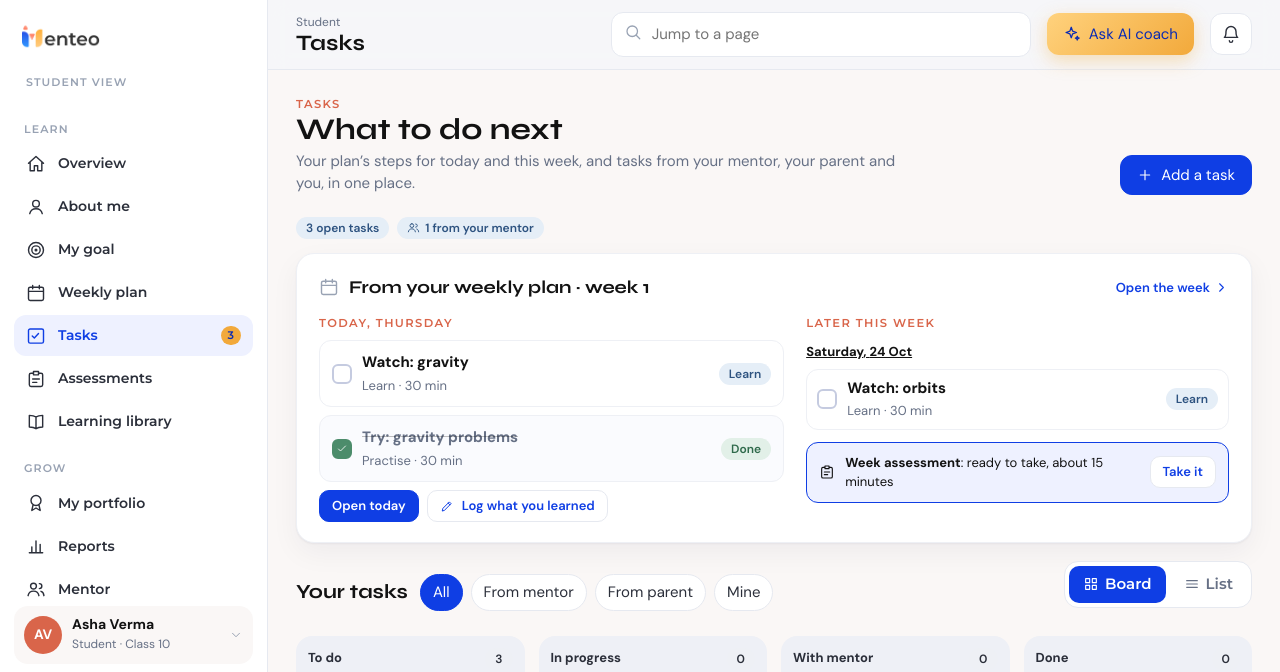
Test case: student: the Tasks page shows the plan’s steps and everyone’s tasks › filters tasks by who set them, and shows where each came from
Click the button "From parent" at (650, 592), box [595,574,706,610]
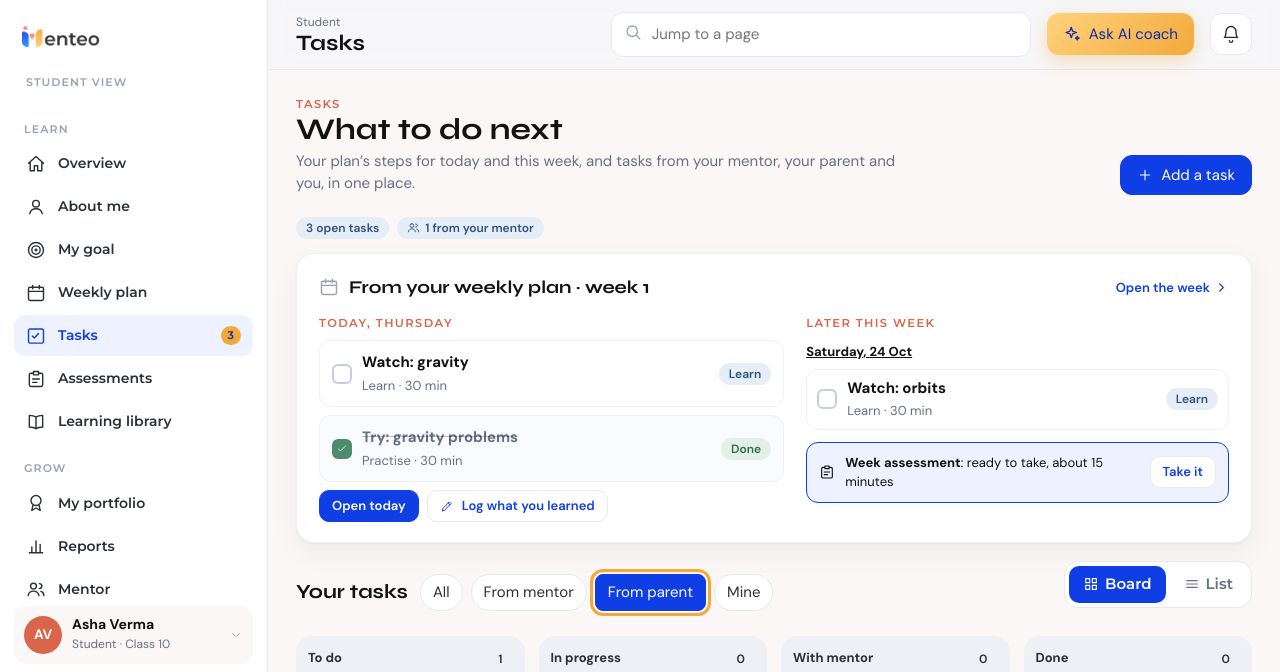
Click the button "Mine" at (744, 592), box [714,574,774,610]
(page scrolled)
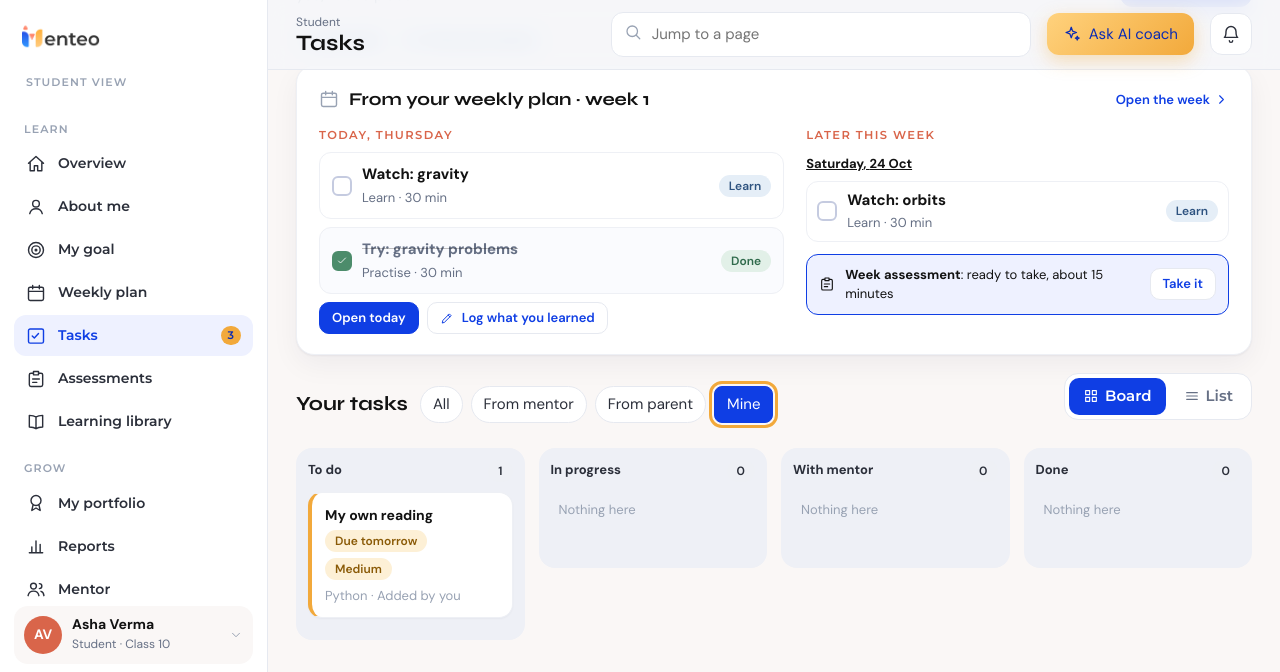
Expected: the button "My own reading Due tomorrow Medium Python · Added by you" is shown, [308,492,512,618]
